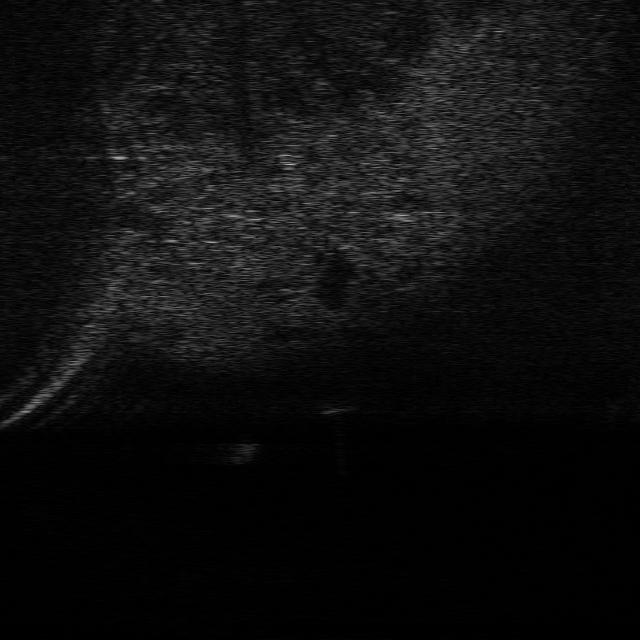cube: (316, 398, 356, 415)
cylinder: (226, 441, 256, 466)
